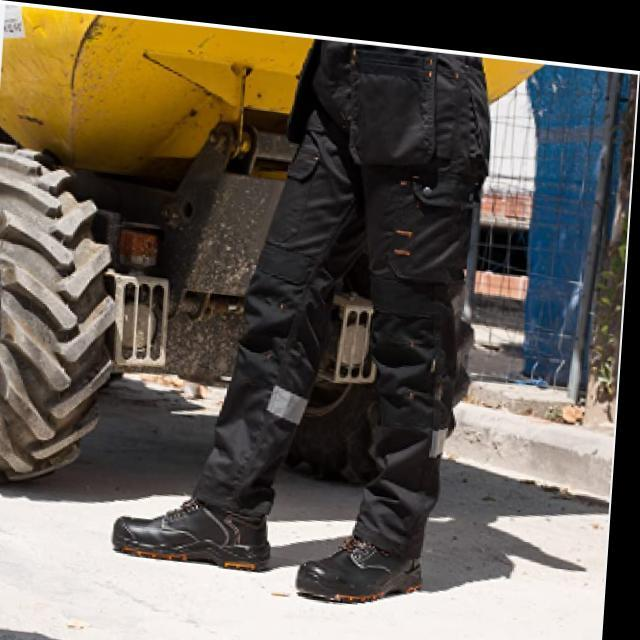shoes: (103, 471, 434, 615)
